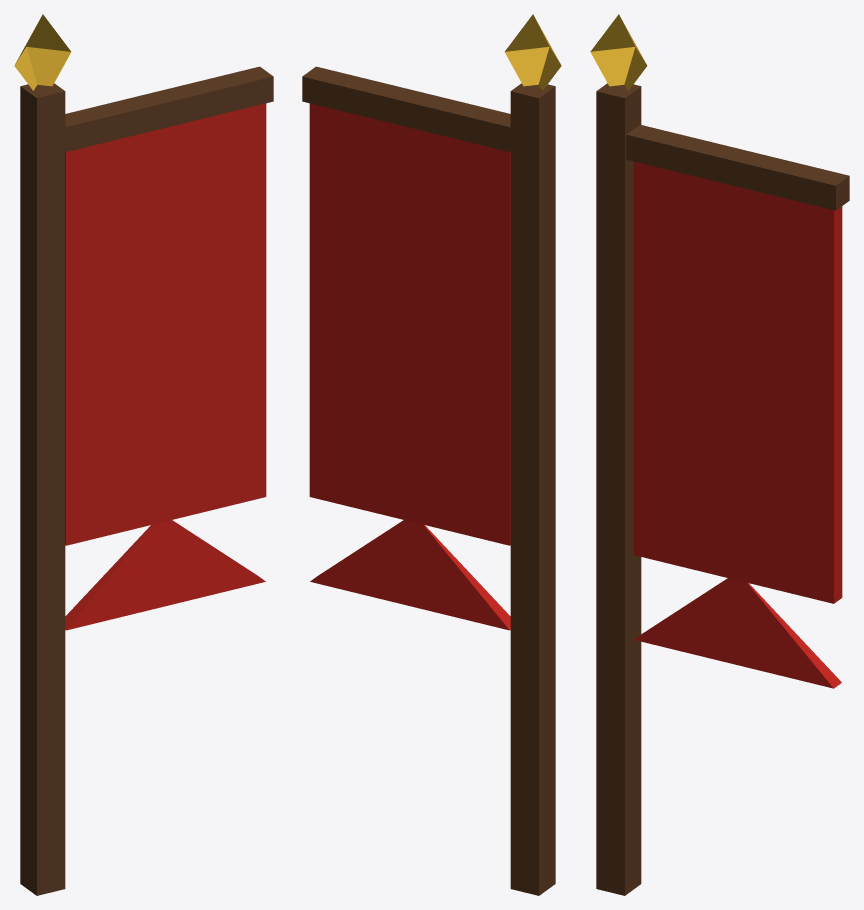
The model's file is raider-banner.gltf.
The picture shows the model from 3 angles, left to right: view 1: azimuth 30°, elevation 25°; view 2: azimuth 150°, elevation 25°; view 3: azimuth 330°, elevation 25°; orthographic projection.
Visible parts, largest first — view 1: cloth, pole, tail, bar, tip; view 2: cloth, pole, tail, bar, tip; view 3: cloth, pole, tail, bar, tip.
Boxes of the visible parts, x1=… form: cloth: x1=65, y1=103, x2=266, y2=545; pole: x1=20, y1=83, x2=65, y2=895; tail: x1=65, y1=520, x2=265, y2=630; bar: x1=21, y1=66, x2=273, y2=158; tip: x1=14, y1=14, x2=71, y2=90; cloth: x1=309, y1=103, x2=510, y2=545; pole: x1=510, y1=83, x2=555, y2=895; tail: x1=310, y1=520, x2=510, y2=630; bar: x1=302, y1=66, x2=553, y2=158; tip: x1=504, y1=14, x2=561, y2=90; cloth: x1=633, y1=161, x2=842, y2=603; pole: x1=596, y1=83, x2=641, y2=895; tail: x1=634, y1=578, x2=841, y2=688; bar: x1=626, y1=124, x2=849, y2=210; tip: x1=590, y1=14, x2=647, y2=90.
Bounding box in the file's own units: 0.53 × 1.75 × 0.12.
